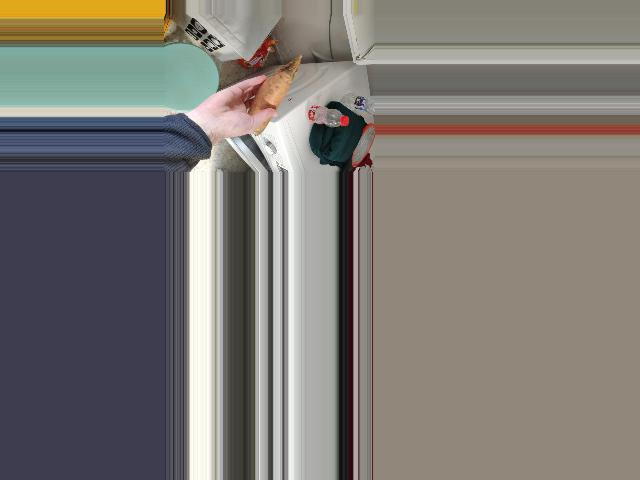sweet_potato: (252, 76, 288, 126)
